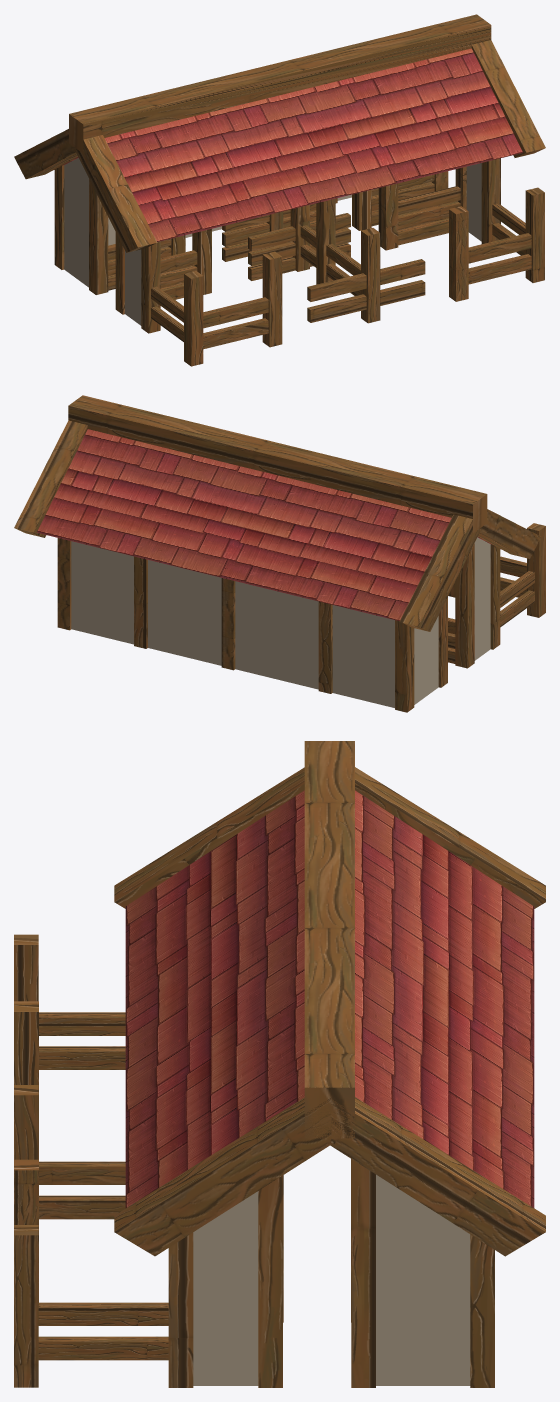
File: barn.fbx
The picture shows the model from 3 angles, top to bottom: view 1: azimuth 30°, elevation 25°; view 2: azimuth 150°, elevation 25°; view 3: azimuth 270°, elevation 25°; orthographic projection. The views are drawn at different scales.
Visible parts, largest first — view 1: Cube.400, Cube.401, Cube.402, Cube.390, Cube.404, Cube.372, Cube.388, Cube.383, Cube.364, Cube.389, Cube.397, Cube.403 (+33 smaller); view 2: Cube.400, Cube.359, Cube.401, Cube.403, Cube.405, Cube.371, Cube.362, Cube.373, Cube.390, Cube.402, Cube.374, Cube.378 (+8 smaller); view 3: Cube.400, Cube.401, Cube.363, Cube.404, Cube.405, Cube.391, Cube.375, Cube.376, Cube.403, Cube.402, Cube.385, Cube.377 (+11 smaller).
Boxes of the visible parts, box(x1,y1,x2,y2) form: Cube.400: box(54, 48, 522, 241); Cube.401: box(69, 14, 491, 153); Cube.402: box(75, 135, 157, 252); Cube.390: box(64, 158, 88, 287); Cube.404: box(471, 40, 545, 157); Cube.372: box(89, 179, 108, 294); Cube.388: box(449, 206, 468, 301); Cube.383: box(184, 271, 203, 366); Cube.364: box(307, 280, 425, 322); Cube.389: box(262, 251, 282, 347); Cube.397: box(307, 259, 425, 301); Cube.403: box(14, 129, 77, 179); Cube.400: box(37, 429, 500, 620); Cube.359: box(71, 541, 394, 707); Cube.401: box(68, 395, 487, 533); Cube.403: box(399, 514, 480, 631); Cube.405: box(14, 420, 87, 537); Cube.371: box(455, 543, 474, 668); Cube.362: box(474, 537, 490, 660); Cube.373: box(395, 620, 414, 712); Cube.390: box(414, 616, 438, 704); Cube.402: box(478, 509, 541, 558); Cube.374: box(57, 538, 71, 630); Cube.378: box(221, 578, 235, 670); Cube.400: box(125, 790, 534, 1207); Cube.401: box(304, 741, 354, 1138); Cube.363: box(376, 1174, 470, 1385); Cube.404: box(114, 1097, 331, 1256); Cube.405: box(329, 1097, 545, 1256); Cube.391: box(193, 1191, 258, 1385); Cube.375: box(351, 1159, 375, 1387); Cube.376: box(258, 1175, 282, 1387); Cube.403: box(355, 767, 545, 908); Cube.402: box(114, 767, 304, 908); Cube.385: box(14, 1225, 38, 1387); Cube.377: box(168, 1232, 193, 1387).
Bounding box in the file's own units: 3265 × 1429 × 2118.
